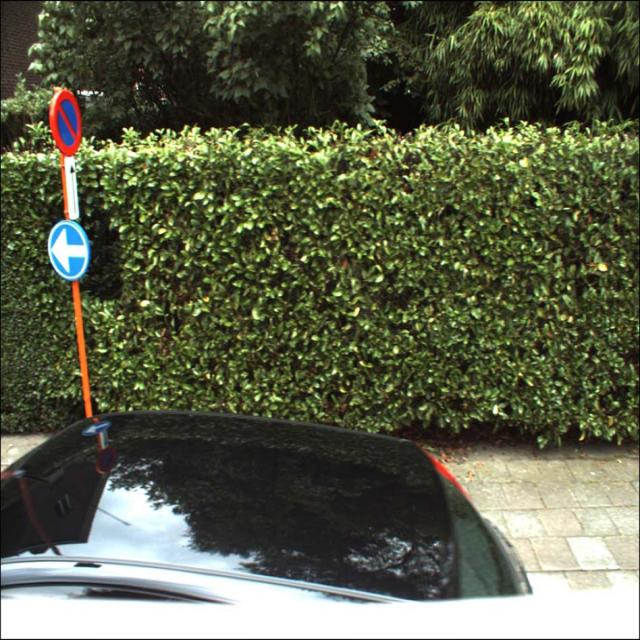parkyasak: (51, 88, 82, 156)
sol: (46, 219, 91, 279)
